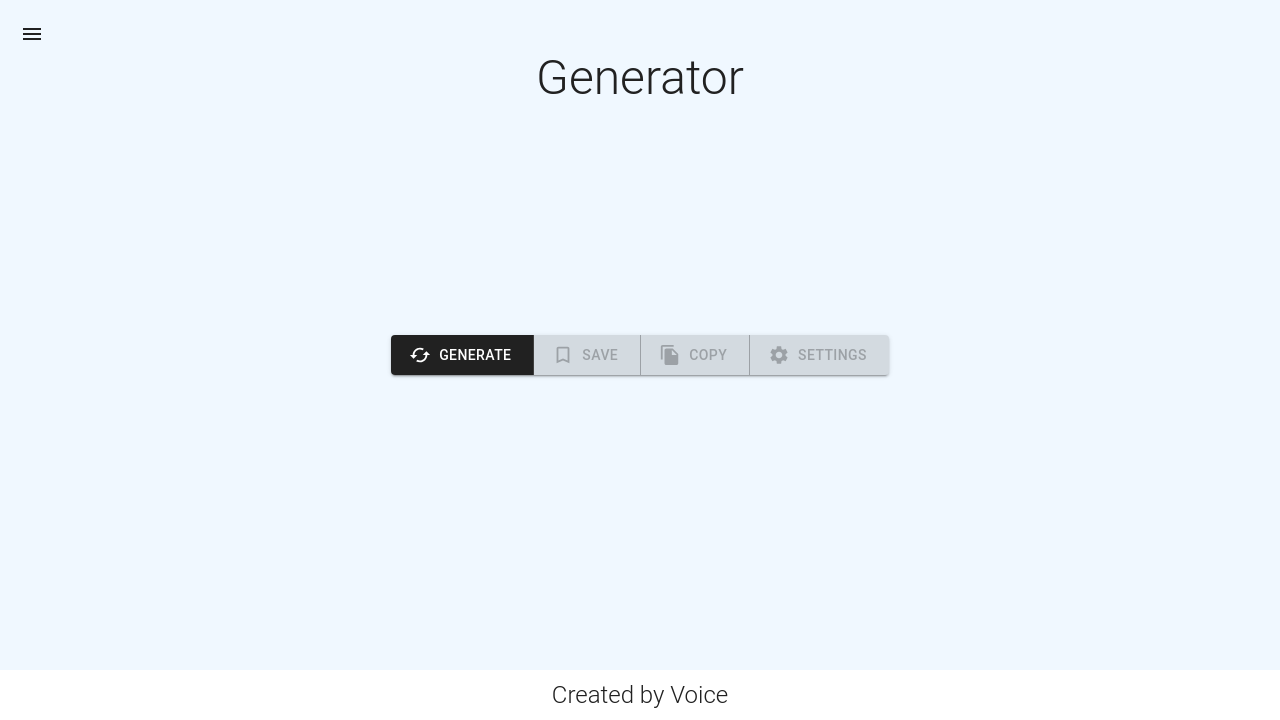
Test: Generate page › Generate button works
Click the button "generate". click: click(463, 355)
box: [391,335,534,376]
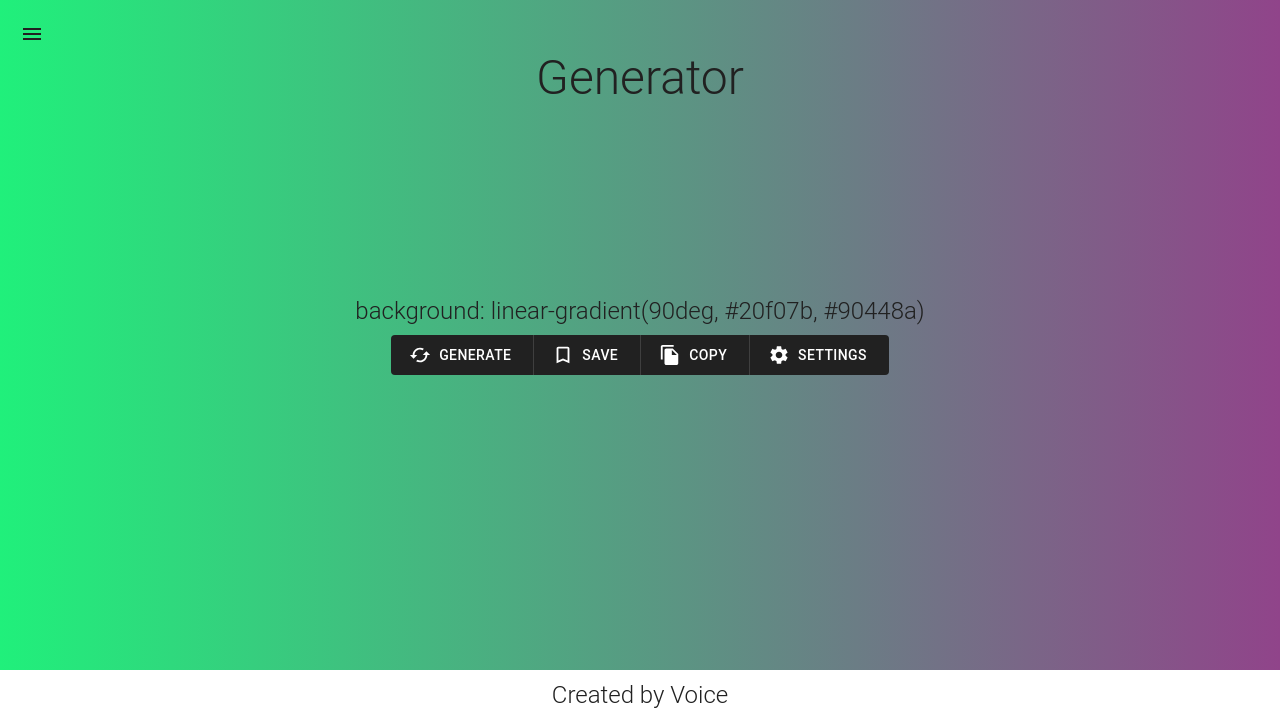
Expected: the button "generate" is shown, [439,343,511,368]
Result: the heading "background: linear-gradient(90deg, #20f07b, #90448a)" is shown at [355,294,925,326]
